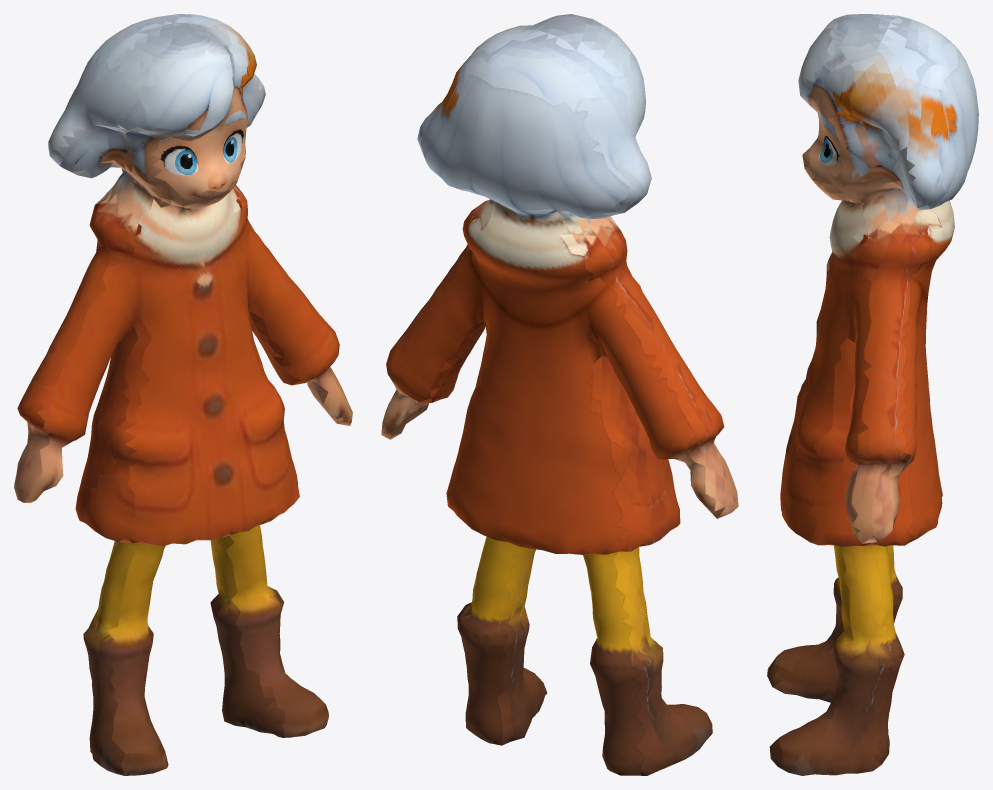
File: autumn-cloud-toon-before-hair.glb
3 views of the same model, side by side, from view 1: azimuth 30°, elevation 25°; view 2: azimuth 150°, elevation 25°; view 3: azimuth 270°, elevation 25° (orthographic). The views are drawn at different scales.
Parts seen in each view (by area): view 1: world; view 2: world; view 3: world.
Boxes of the visible parts, box(x1,y1,x2,y2) form: world: box(14, 14, 352, 775); world: box(381, 14, 738, 775); world: box(767, 14, 978, 775).
Bounding box in the file's own units: 0.4656 × 0.9437 × 0.256.
1 material, 1 textured.
